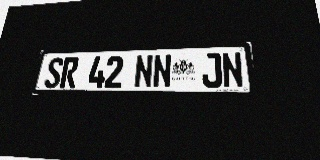2: (104, 55, 124, 88)
4: (87, 56, 107, 88)
J: (202, 52, 222, 88)
N: (221, 52, 244, 88), (134, 54, 153, 88), (152, 54, 171, 88)
R: (59, 57, 79, 88)
S: (43, 57, 64, 88)
